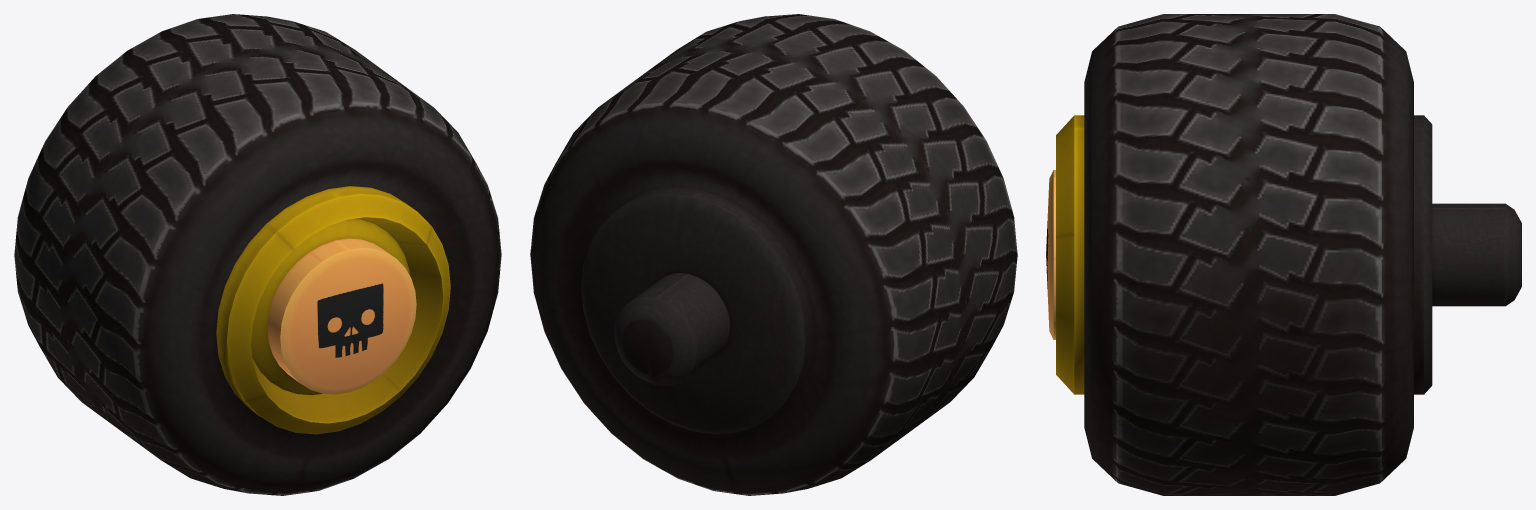
Rendered from sharky_wheel3.obj.
3 renders of one model, left to right at view 1: azimuth 30°, elevation 25°; view 2: azimuth 150°, elevation 25°; view 3: azimuth 270°, elevation 25°, orthographic. The views are drawn at different scales.
Visible parts, largest first — view 1: wheel3_wheel3.001; view 2: wheel3_wheel3.001; view 3: wheel3_wheel3.001.
Part boxes in pixels (bbox=[...]): wheel3_wheel3.001: bbox=[14, 14, 501, 495]; wheel3_wheel3.001: bbox=[530, 14, 1017, 495]; wheel3_wheel3.001: bbox=[1046, 14, 1521, 495].
Bounding box in the file's own units: 0.7102 × 0.7102 × 0.7006.
